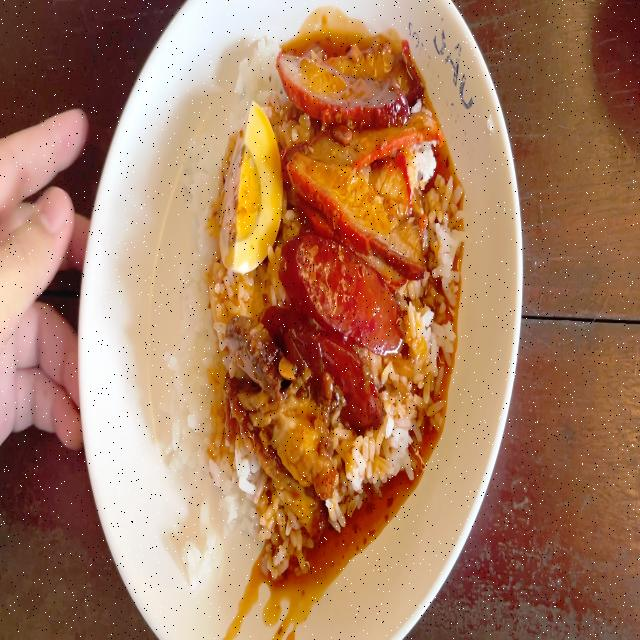boiled_egg: (221, 107, 278, 272)
chainese_sausage: (275, 241, 400, 420)
crispy_pork: (260, 398, 332, 524), (227, 313, 277, 458)
red_pork: (281, 50, 445, 252)
red_pork_and_crispy_pork: (193, 47, 448, 545)
rice: (176, 265, 228, 534), (331, 420, 418, 506), (234, 464, 258, 532)
